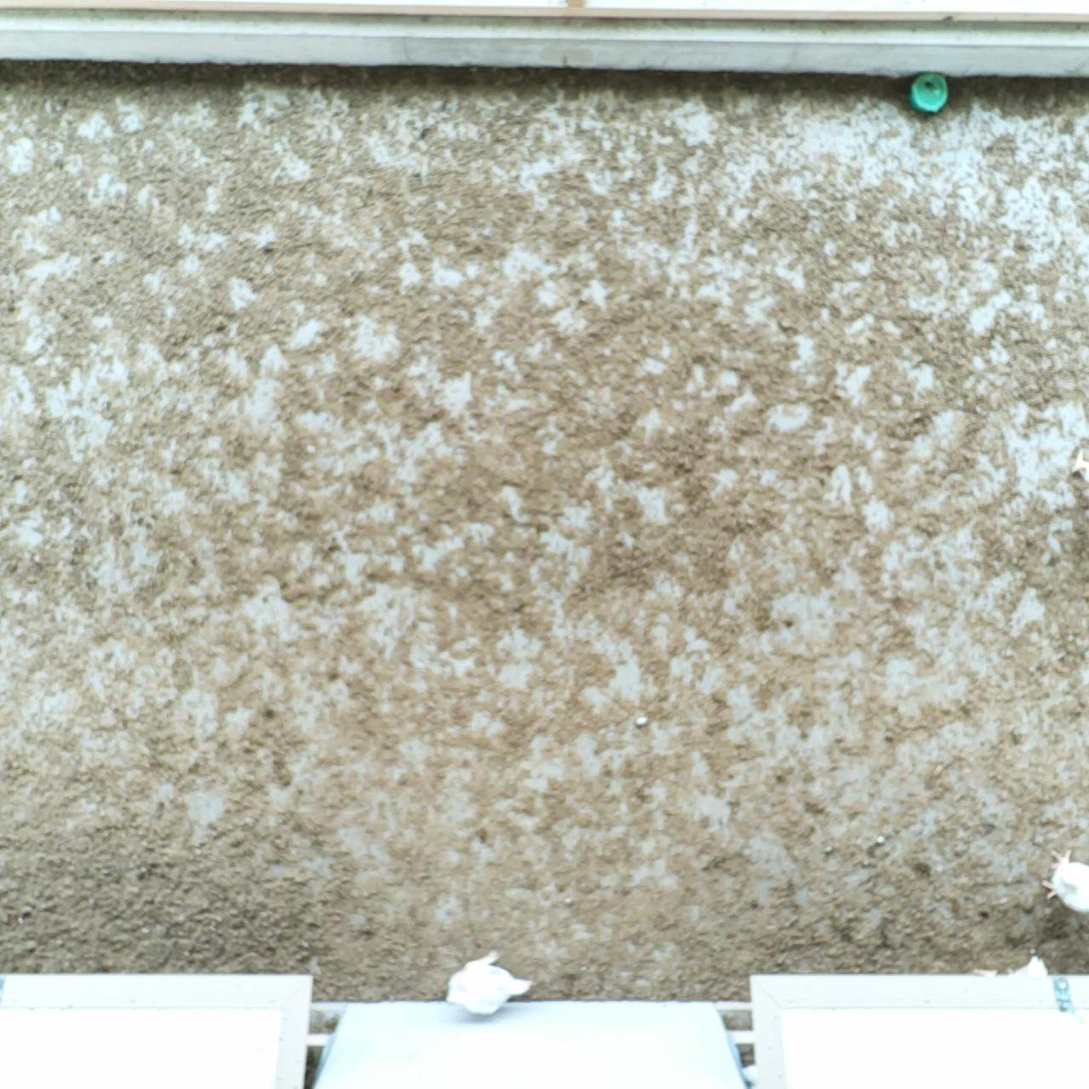chicken: (443, 944, 534, 1022), (1038, 842, 1089, 916)
